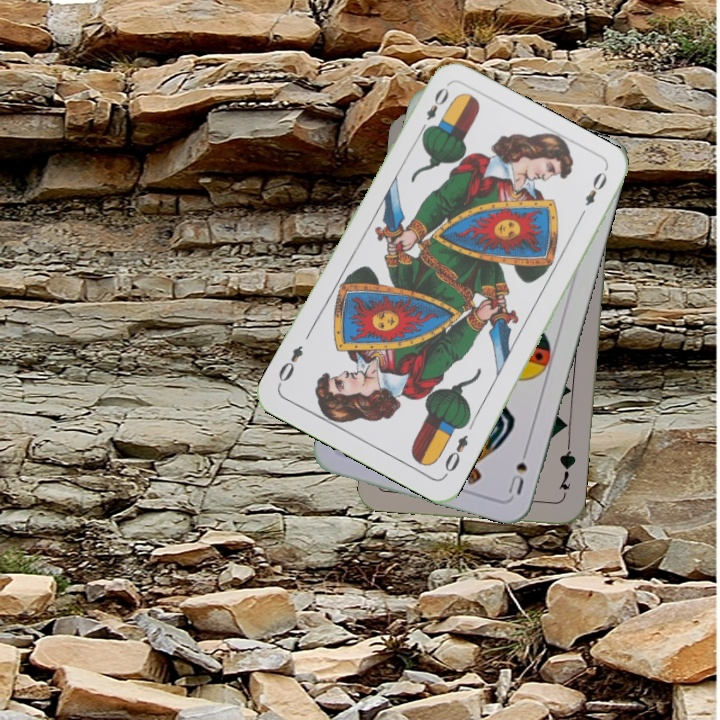EO: (415, 83, 452, 137), (440, 430, 471, 479)
G7: (555, 442, 579, 501)
SU: (504, 441, 531, 497)
